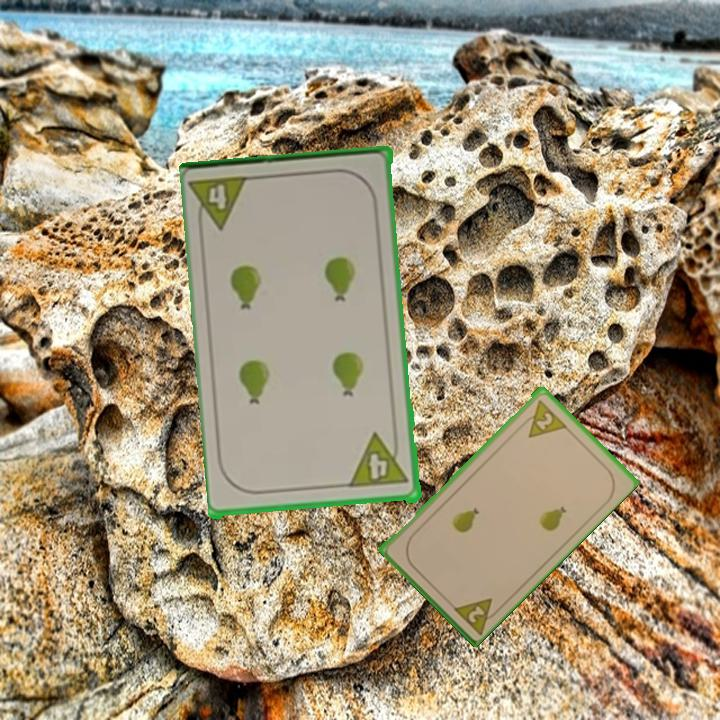2p: (448, 594, 504, 636), (517, 396, 569, 441)
4p: (189, 172, 254, 235), (347, 430, 412, 491)
